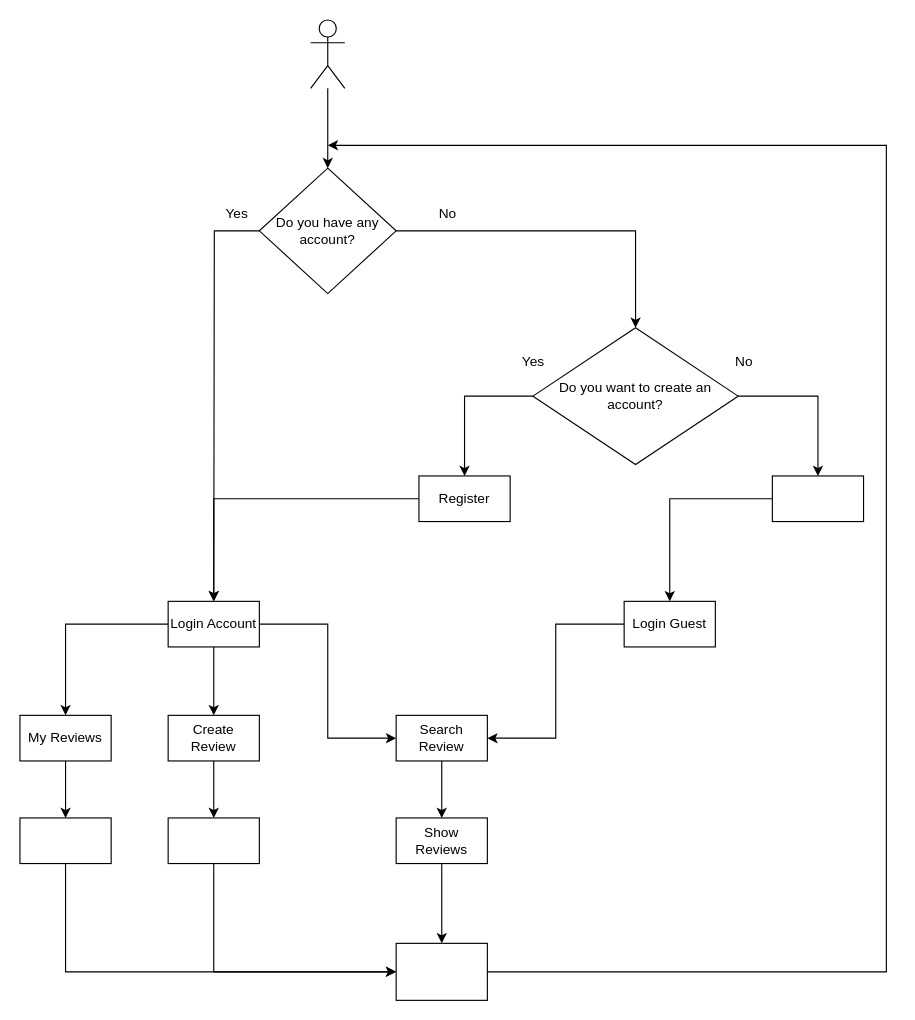
This 915x1020 diagram has some shape labels left out. Here are the shapes that lost their labels. From the top down, the box of each, then its label:
(771, 475, 864, 522): Guest
(19, 817, 111, 864): Show My Reviews
(167, 817, 259, 864): Review Created
(395, 942, 487, 1000): Logout
